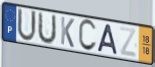A: (96, 23, 119, 56)
C: (78, 18, 98, 53)
K: (60, 15, 75, 49)
U: (16, 6, 38, 43), (36, 10, 57, 46)
Z: (118, 26, 138, 60)
